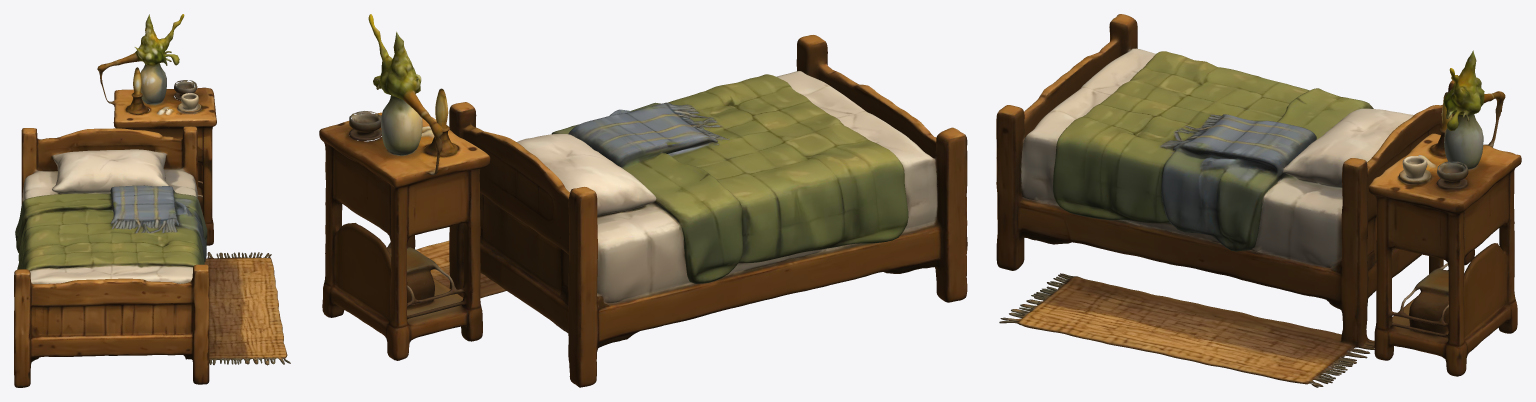
The model's file is single-bed.glb.
3 renders of one model, left to right at view 1: azimuth 30°, elevation 25°; view 2: azimuth 150°, elevation 25°; view 3: azimuth 270°, elevation 25°, orthographic. The views are drawn at different scales.
Parts seen in each view (by area): view 1: tripo_node_5136ec55; view 2: tripo_node_5136ec55; view 3: tripo_node_5136ec55.
Part boxes in pixels (x1=…): tripo_node_5136ec55: x1=14, y1=14, x2=290, y2=387; tripo_node_5136ec55: x1=319, y1=14, x2=967, y2=387; tripo_node_5136ec55: x1=996, y1=14, x2=1521, y2=387.
Bounding box in the file's own units: 96.95 × 60.48 × 97.67.
Materials: 1 (1 with a texture image).
